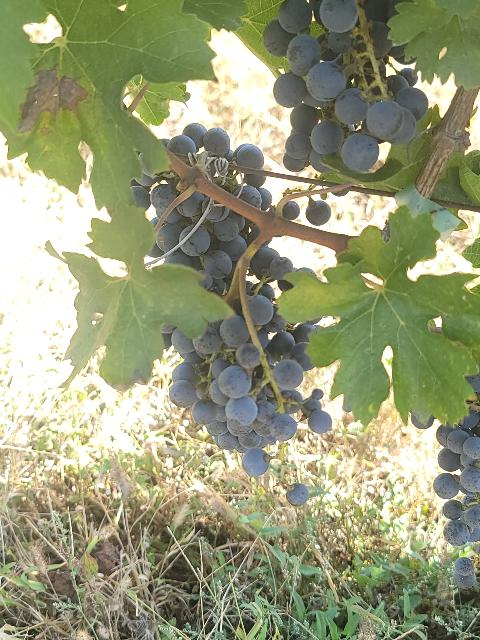grapes: (169, 282, 331, 476), (262, 0, 429, 175), (131, 170, 258, 295), (165, 124, 272, 210), (434, 410, 480, 546), (249, 241, 294, 304), (252, 246, 292, 289), (286, 482, 309, 505), (454, 569, 475, 589)
